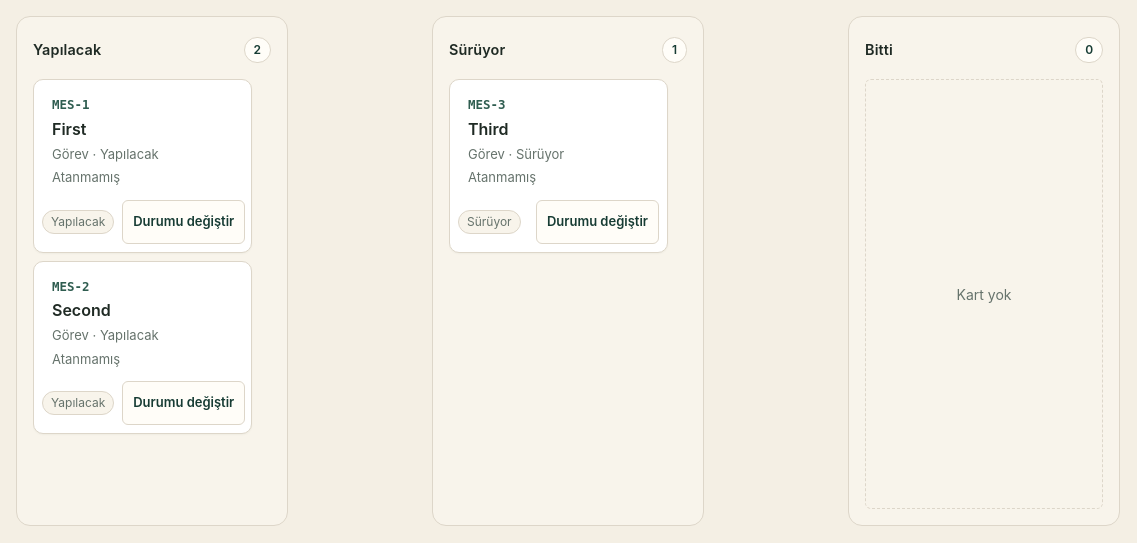
Scenario: ProjectBoard › status-change controls › changes status to a target and closes the disclosure
Click the button with aria-label "MES-1 için durumu değiştir" at [184, 222], box [122, 200, 245, 244]
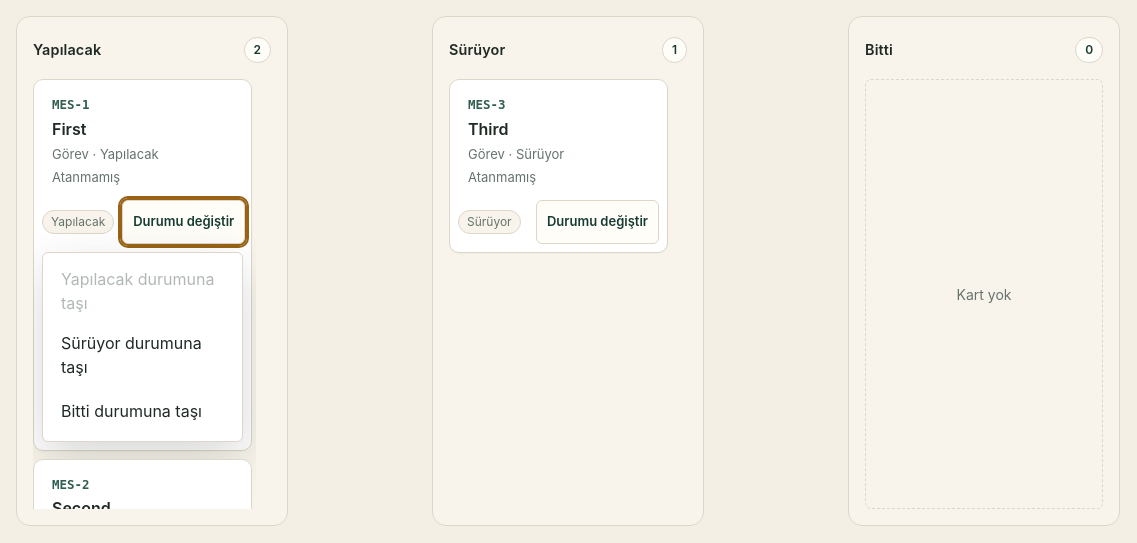
Click the button "Sürüyor durumuna taşı" at [142, 355], box [51, 325, 234, 385]
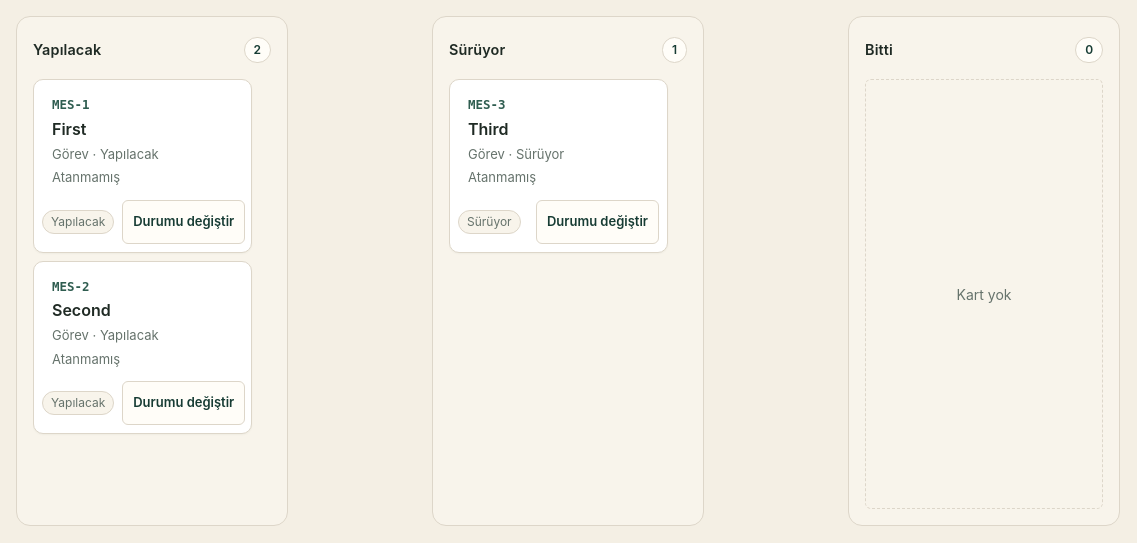
Result: the button "Sürüyor durumuna taşı" is gone
